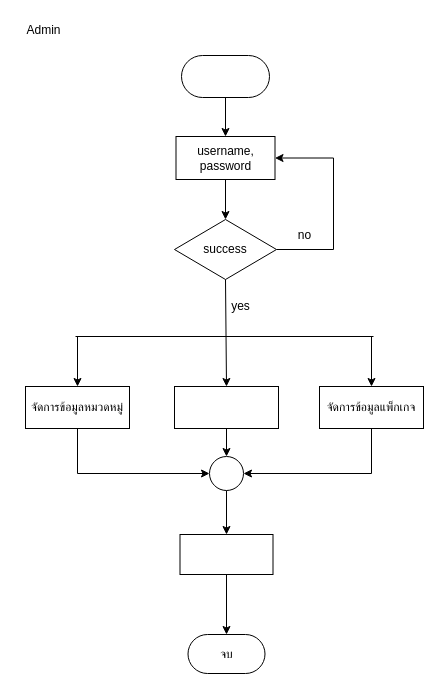
The diagram is 441 pixels wide and 691 high, and some of its shapes have lost their labels. Each missing label, with the box of its shape:
จัดการข้อมูลบริการ: (174, 386, 278, 428)
เริ่มต้น: (180, 54, 270, 98)
แสดงข้อมูล: (179, 534, 273, 574)
